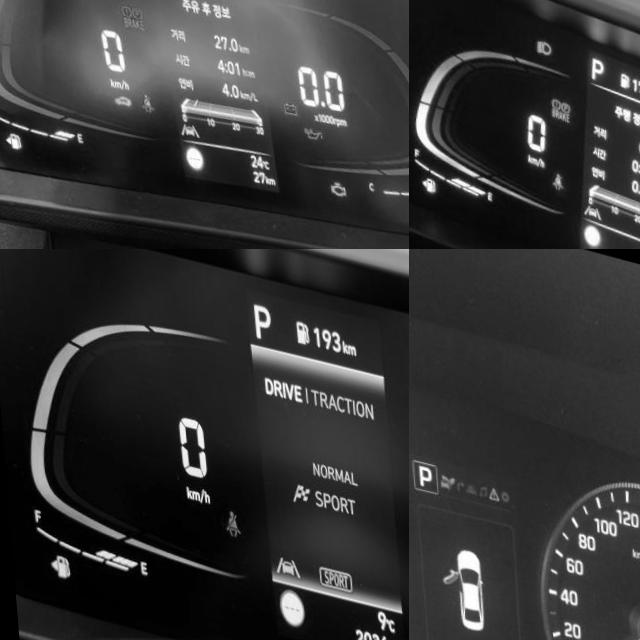LaneCenteringOff: (266, 540, 293, 565), (172, 106, 193, 124)
Low beam: (529, 23, 547, 43)
